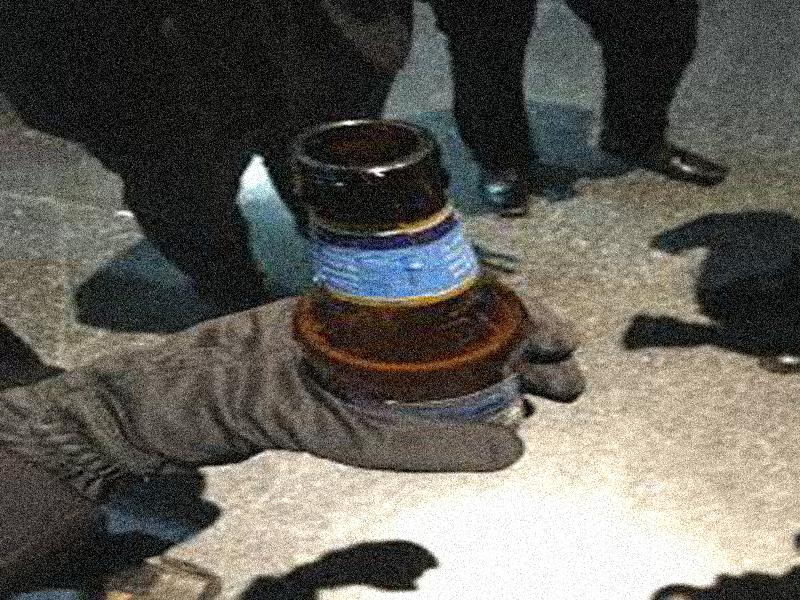Beer: (285, 118, 540, 452)
